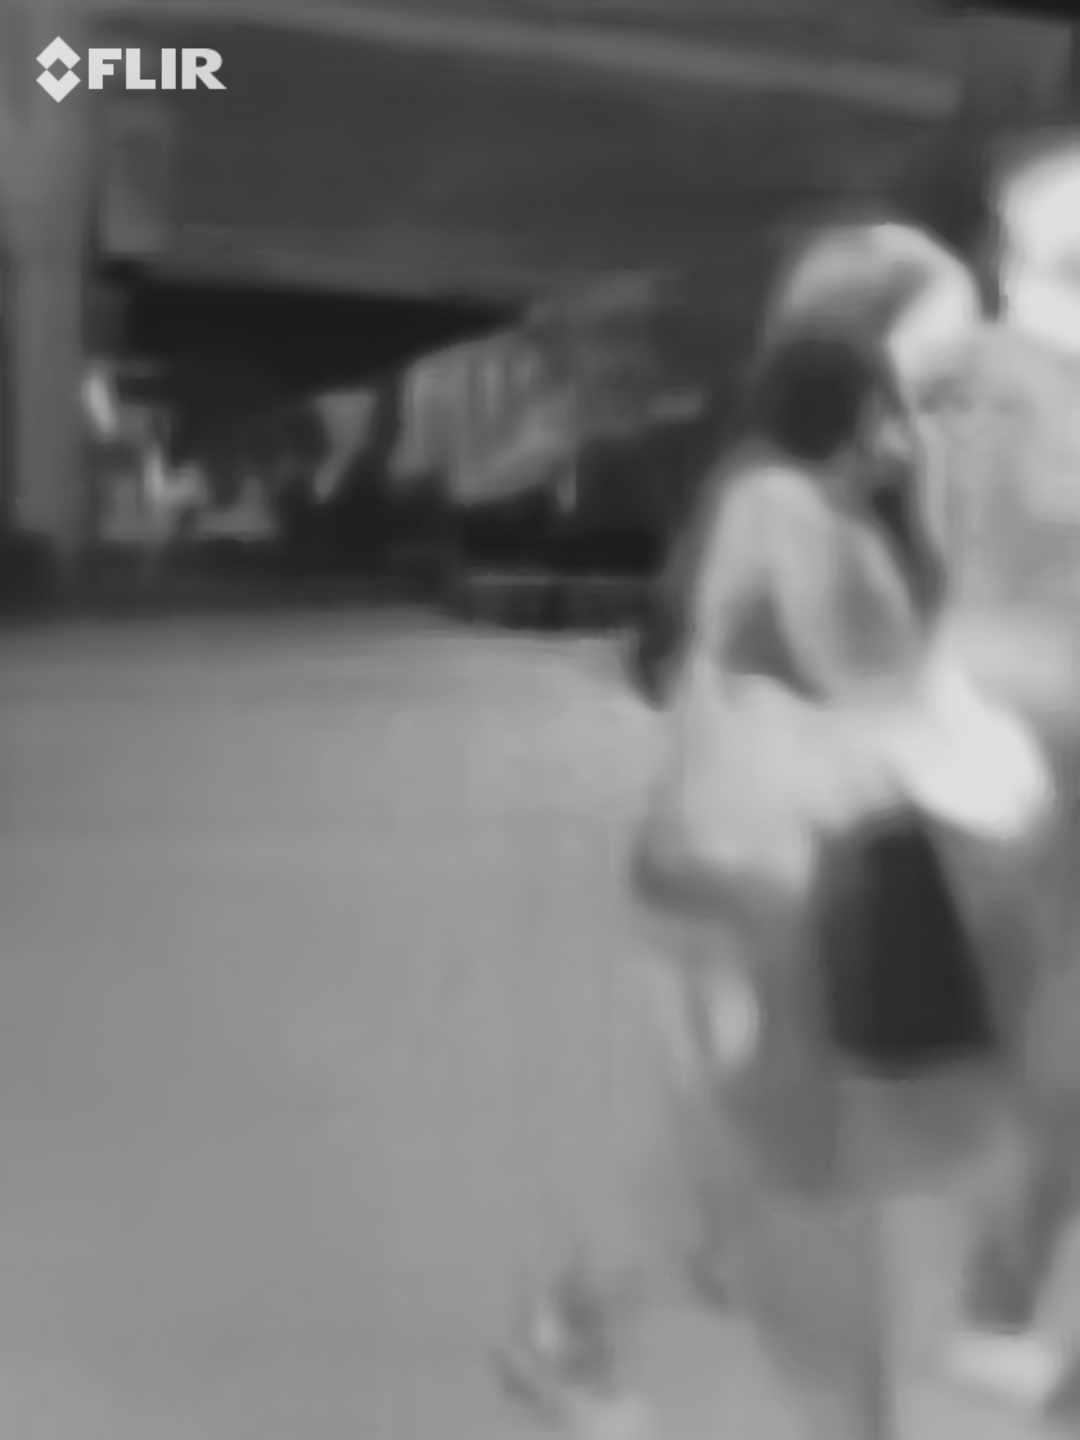head: (780, 221, 995, 474)
